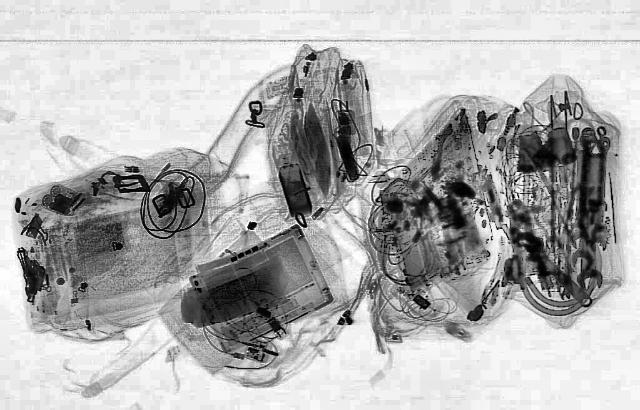Wrench: (571, 238, 603, 288), (570, 212, 598, 266)
